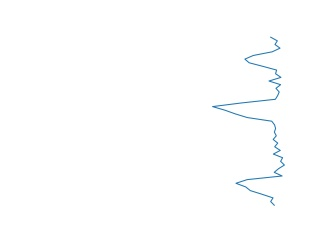underwaterNaturalLevee: (207, 34, 288, 210)
